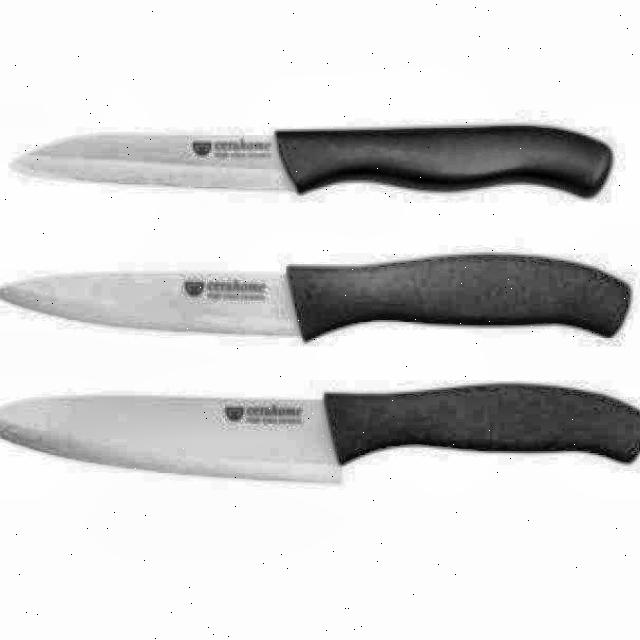knife: (0, 380, 640, 484), (0, 245, 634, 344), (17, 120, 616, 198)
